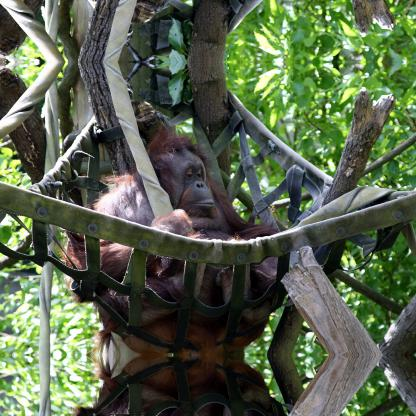Monkey: (61, 123, 286, 353), (60, 355, 286, 415)
